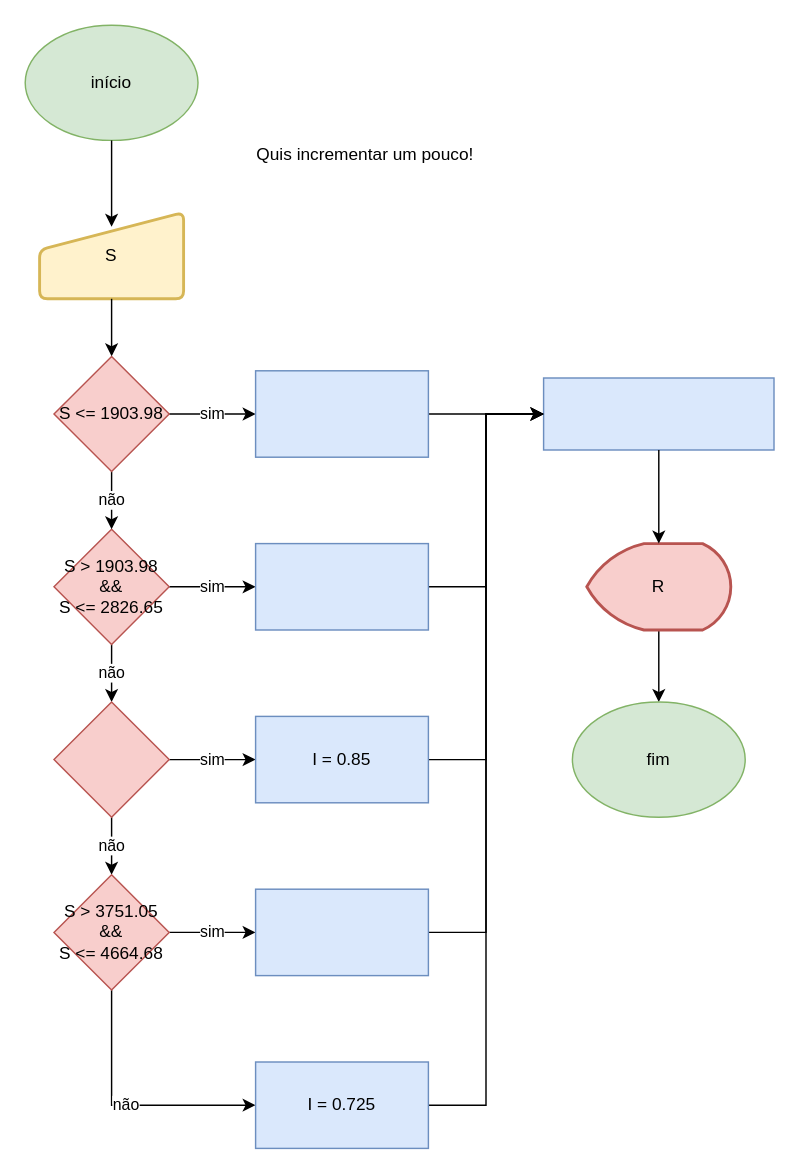
The diagram is 799 pixels wide and 1174 high, and some of its shapes have lost their labels. Each missing label, with the box of its shape:
I = 0.775: (254, 888, 428, 976)
I = 0.925: (254, 542, 428, 630)
I = 1: (254, 369, 428, 457)
R = S * I: (542, 377, 774, 450)
S > 2826.65 && S <= 3751.05: (53, 701, 169, 817)
